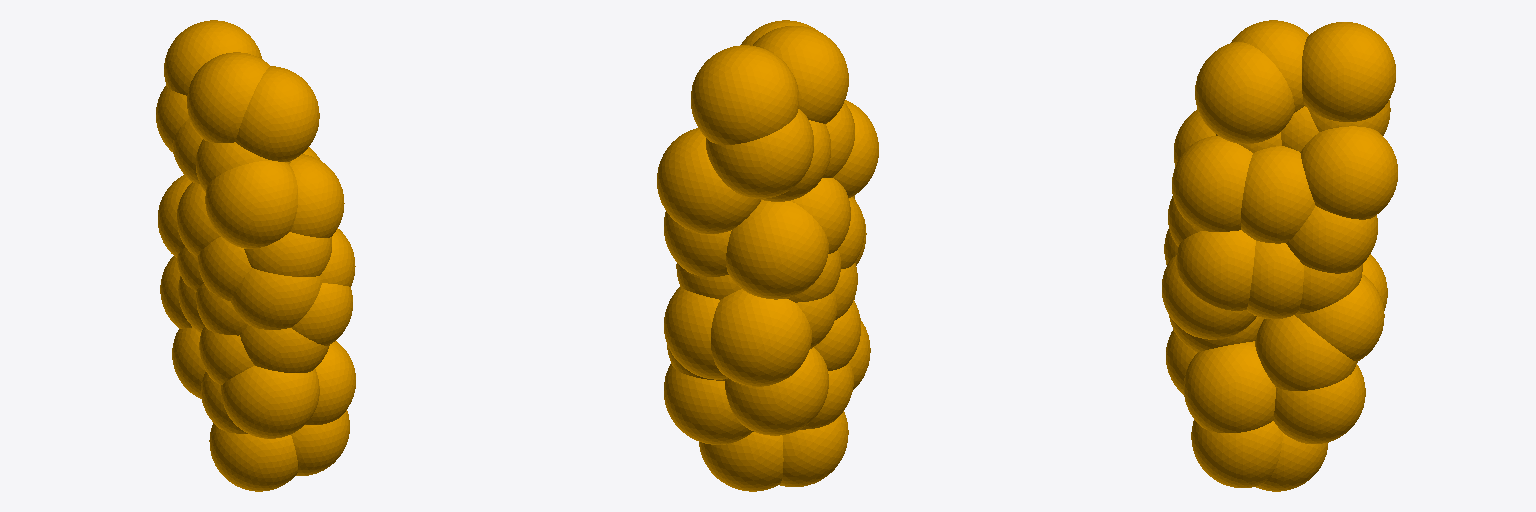
URDF robot description (obj.urdf):
<?xml version="1.0" ?>
<robot name="obj.urdf">
  <link name="baseLink">
    <visual>
      <origin rpy="0 0 0" xyz="0 0 0"/>
      <geometry>
        <mesh filename="./obj-and-urdf/bounding_spheres.obj" />
      </geometry>
    </visual>
    <collision>
      <origin rpy="0 0 0" xyz="0 0 0"/>
      <geometry>
        <mesh filename="./obj-and-urdf/bounding_spheres.obj" />
      </geometry>
    </collision>
  </link>
</robot>

--- Render facts (derived) ---
Views: 3 orthographic renders of the robot side by side, from view 1: azimuth 30°, elevation 25°; view 2: azimuth 150°, elevation 25°; view 3: azimuth 270°, elevation 25°.
Robot: obj.urdf — 1 links, 0 joints (none); root link baseLink; default pose: every joint at zero.
Visible links, largest first — view 1: baseLink; view 2: baseLink; view 3: baseLink.
Link boxes in pixels (x1,y1,x2,y2): baseLink: [156, 20, 355, 491]; baseLink: [657, 20, 878, 491]; baseLink: [1162, 20, 1397, 491].
Bounding box of the posed robot: 0.0216 × 0.0296 × 0.0617 m (x, y, z).
Meshes: 1 distinct files referenced, 1 mesh visuals loaded (1 OBJ).